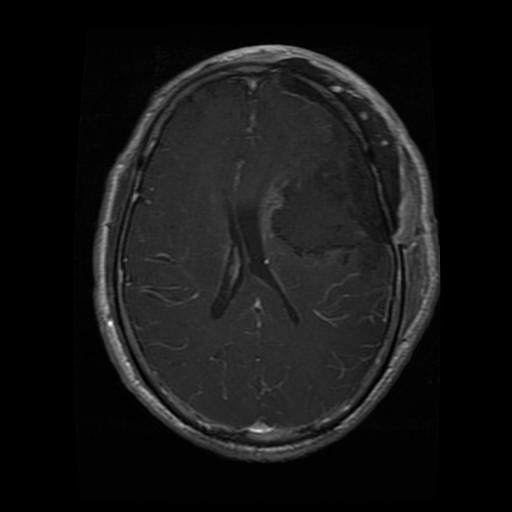Gliomia_tumour: (270, 121, 387, 253)
